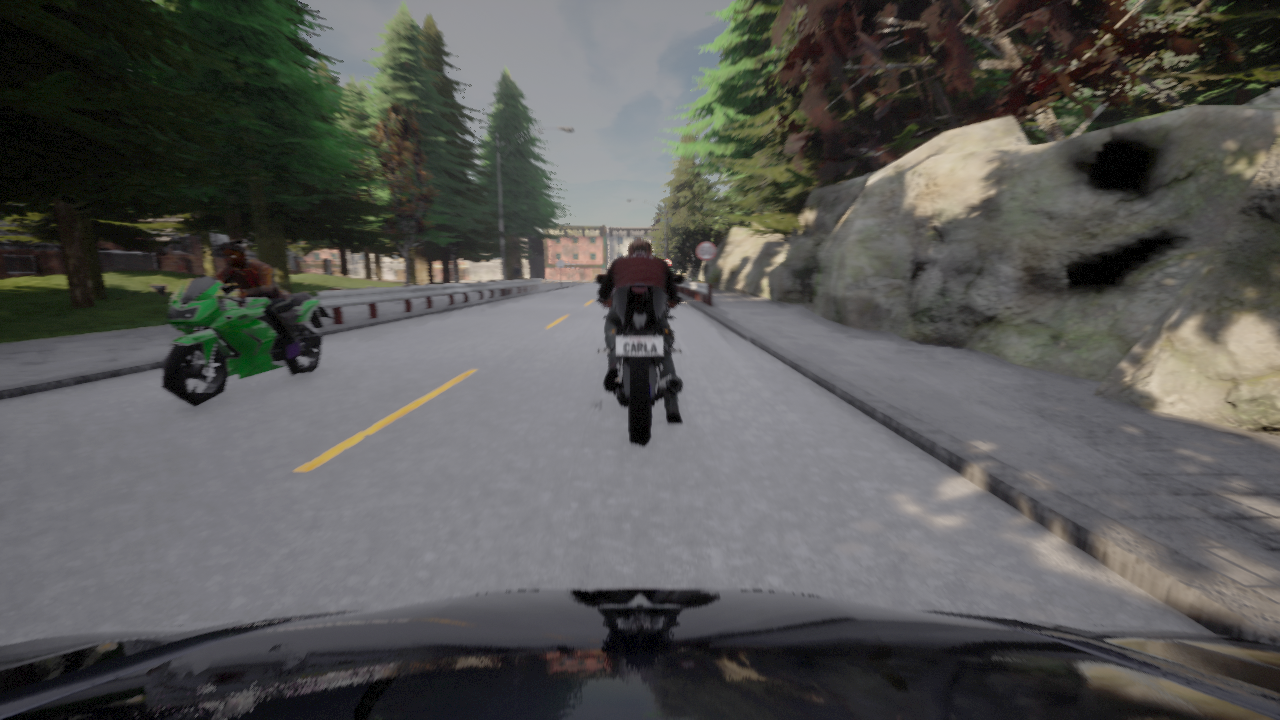cyclist: (0, 588, 1279, 719), (149, 276, 332, 407), (595, 275, 684, 445)
pedestrian: (686, 264, 694, 280), (513, 264, 521, 279), (714, 274, 719, 291)
